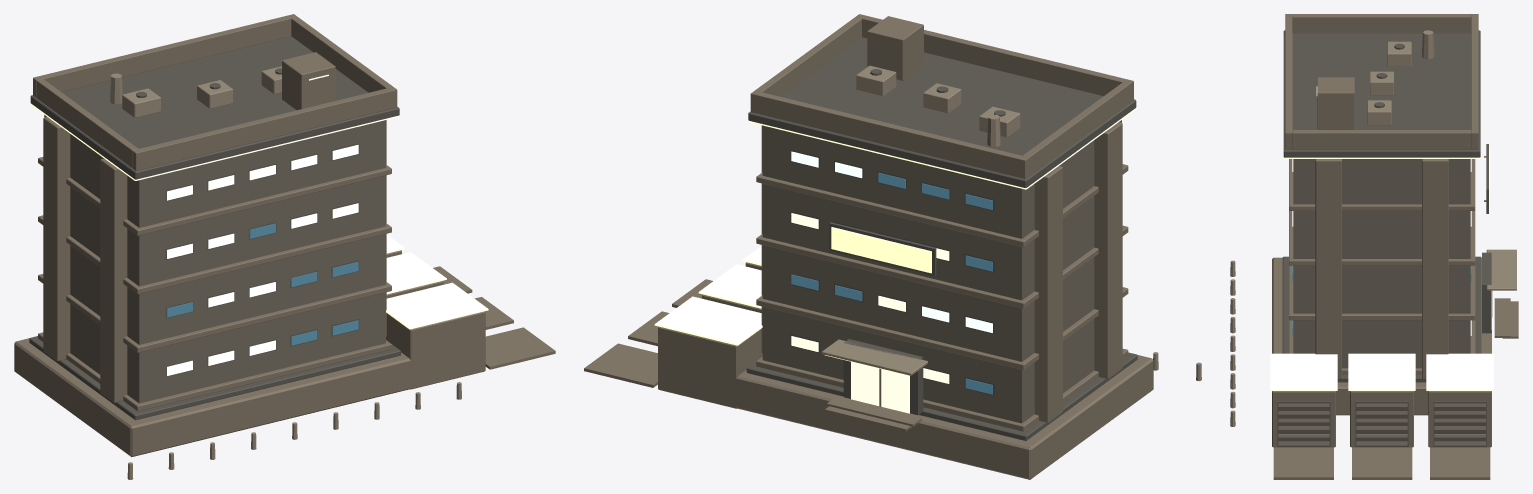
File: capability_center.glb
The picture shows the model from 3 angles, left to right: view 1: azimuth 30°, elevation 25°; view 2: azimuth 150°, elevation 25°; view 3: azimuth 270°, elevation 25°; orthographic projection. The views are drawn at different scales.
Visible parts, largest first — view 1: capability_center_Concrete@industrial, capability_center_Graphite@industrial, capability_center_DarkAlloy@industrial, capability_center_Amber, capability_center_Steel@industrial, capability_center_WarmGlass, capability_center_BlackGlass, capability_center_CoolGlass; view 2: capability_center_Concrete@industrial, capability_center_Graphite@industrial, capability_center_DarkAlloy@industrial, capability_center_Amber, capability_center_Steel@industrial, capability_center_WarmGlass, capability_center_BlackGlass, capability_center_CoolGlass; view 3: capability_center_Concrete@industrial, capability_center_DarkAlloy@industrial, capability_center_Graphite@industrial, capability_center_Amber, capability_center_Steel@industrial.
Boxes of the visible parts, x1,y1,x2,y2 form: capability_center_Concrete@industrial: (14, 14, 555, 456); capability_center_Graphite@industrial: (44, 115, 385, 403); capability_center_DarkAlloy@industrial: (29, 36, 400, 420); capability_center_Amber: (29, 74, 488, 329); capability_center_Steel@industrial: (110, 66, 461, 479); capability_center_WarmGlass: (167, 155, 358, 375); capability_center_BlackGlass: (167, 223, 358, 345); capability_center_CoolGlass: (167, 145, 358, 355); capability_center_Concrete@industrial: (584, 14, 1153, 479); capability_center_Graphite@industrial: (762, 120, 1121, 423); capability_center_DarkAlloy@industrial: (746, 37, 1137, 440); capability_center_Amber: (654, 107, 1137, 375); capability_center_Steel@industrial: (821, 65, 1201, 406); capability_center_WarmGlass: (791, 213, 949, 413); capability_center_BlackGlass: (791, 172, 992, 394); capability_center_CoolGlass: (791, 151, 992, 332); capability_center_Concrete@industrial: (1272, 14, 1518, 479); capability_center_DarkAlloy@industrial: (1277, 30, 1491, 447); capability_center_Graphite@industrial: (1293, 159, 1470, 368); capability_center_Amber: (1270, 37, 1493, 390); capability_center_Steel@industrial: (1230, 30, 1516, 445).
Bounding box in the file's own units: 27.35 × 18.5 × 16.25.
